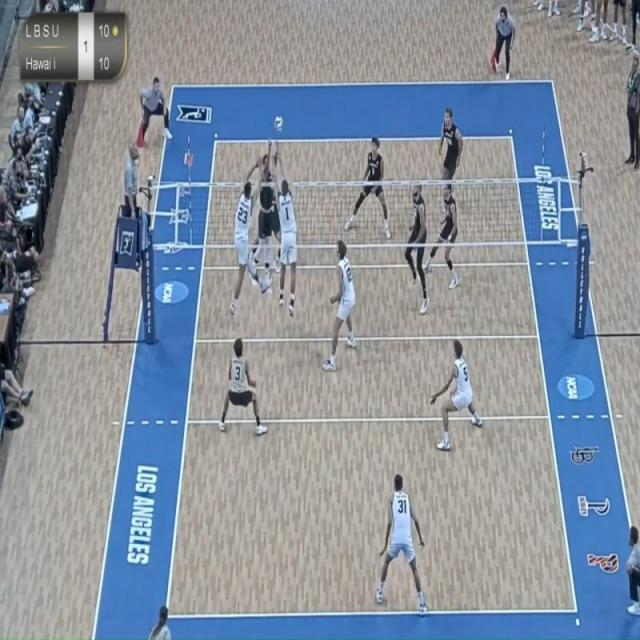volleyball: (272, 113, 285, 136)
